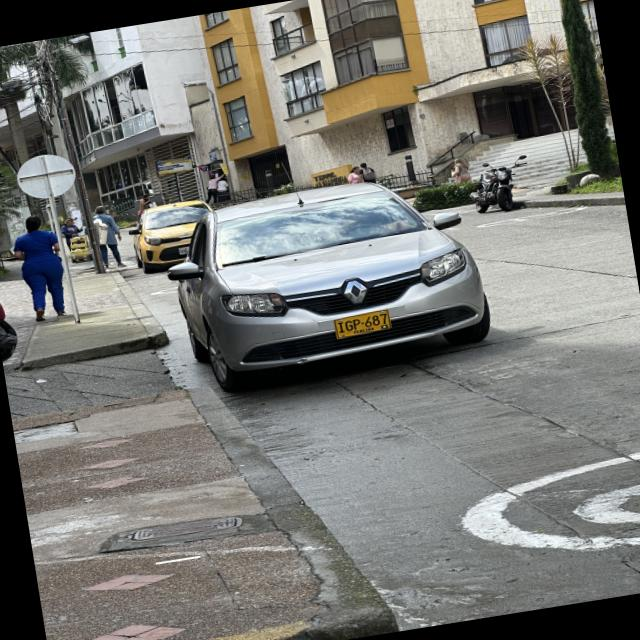number plate: (334, 309, 391, 339)
